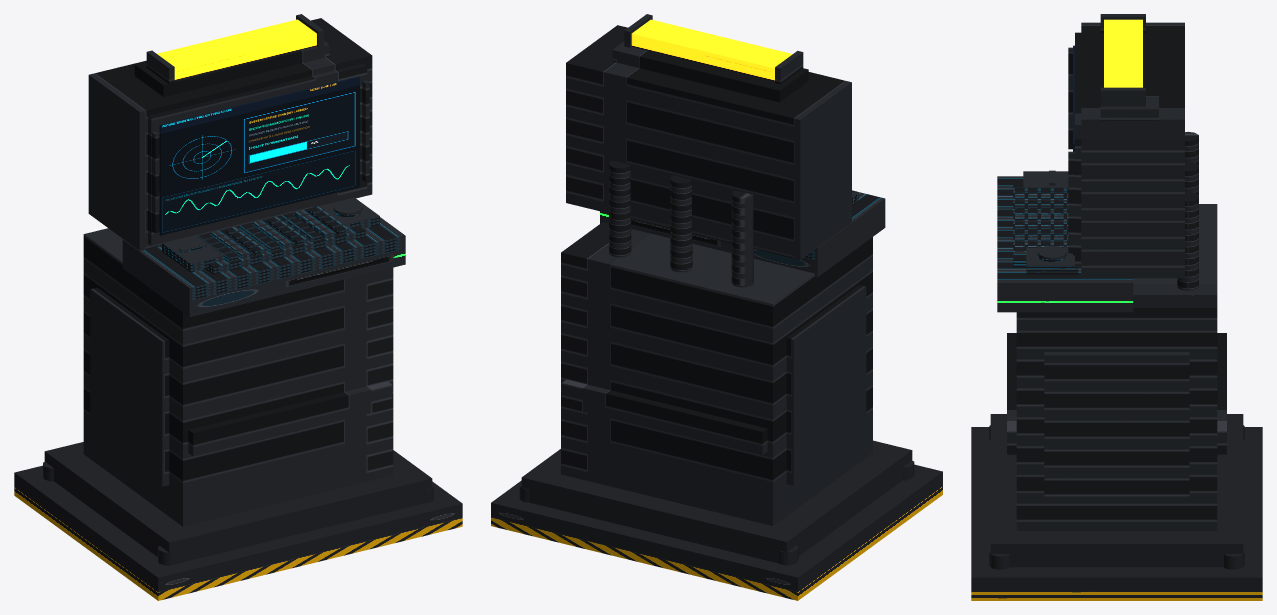
Rendered from ObjectiveTerminal_Custom.fbx.
The picture shows the model from 3 angles, left to right: view 1: azimuth 30°, elevation 25°; view 2: azimuth 150°, elevation 25°; view 3: azimuth 270°, elevation 25°; orthographic projection.
Visible parts, largest first — view 1: ObjectiveTerminal_Custom; view 2: ObjectiveTerminal_Custom; view 3: ObjectiveTerminal_Custom.
Part boxes in pixels (x1,y1,x2,y2): ObjectiveTerminal_Custom: (14,14,462,600); ObjectiveTerminal_Custom: (491,14,942,600); ObjectiveTerminal_Custom: (971,14,1262,600).
Bounding box in the file's own units: 1.1 × 1.62 × 0.9.
